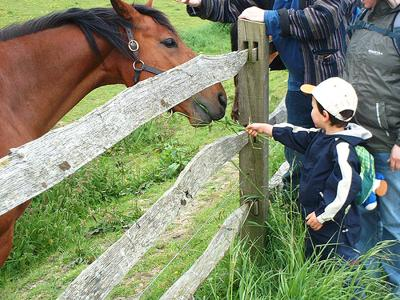person: (245, 78, 366, 300)
